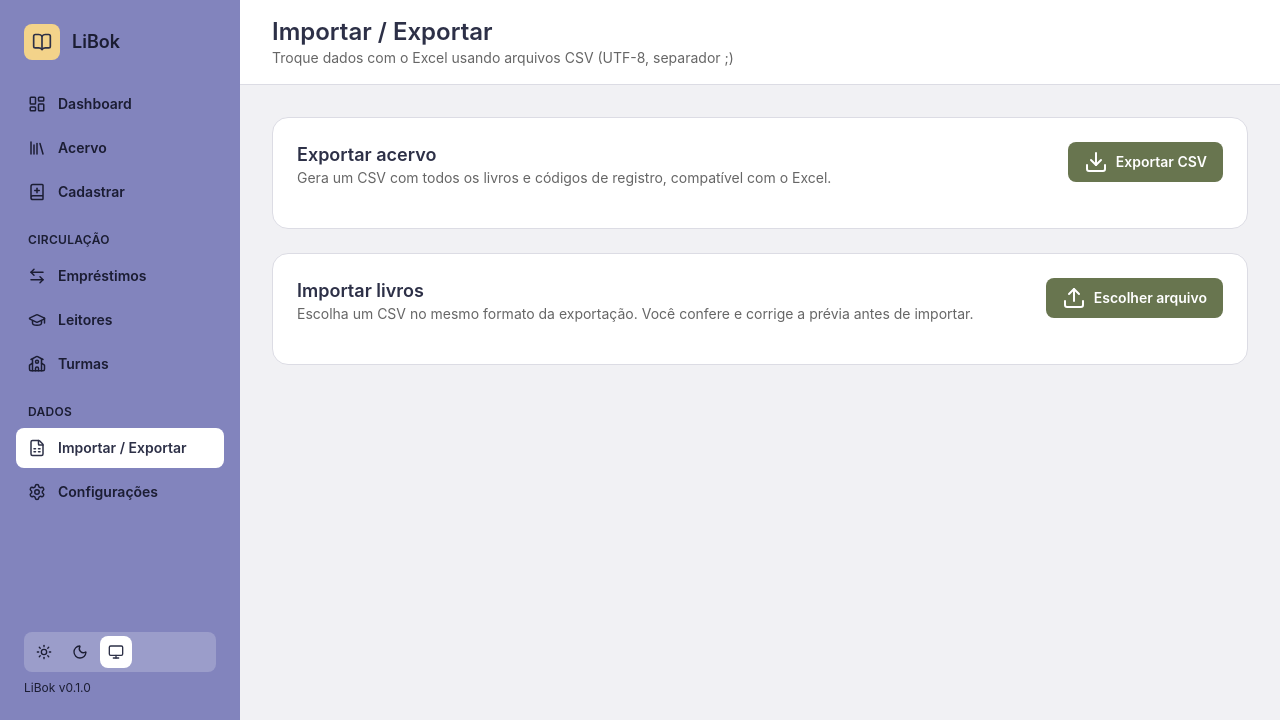
Test case: fluxo: corrigir linhas na prévia › desfazer ignorar devolve a linha
The width and height of the screenshot is (1280, 720).
Step 1. Click the button "Escolher arquivo" → coordinates (1134, 298), box x1=1046 y1=278 x2=1223 y2=318
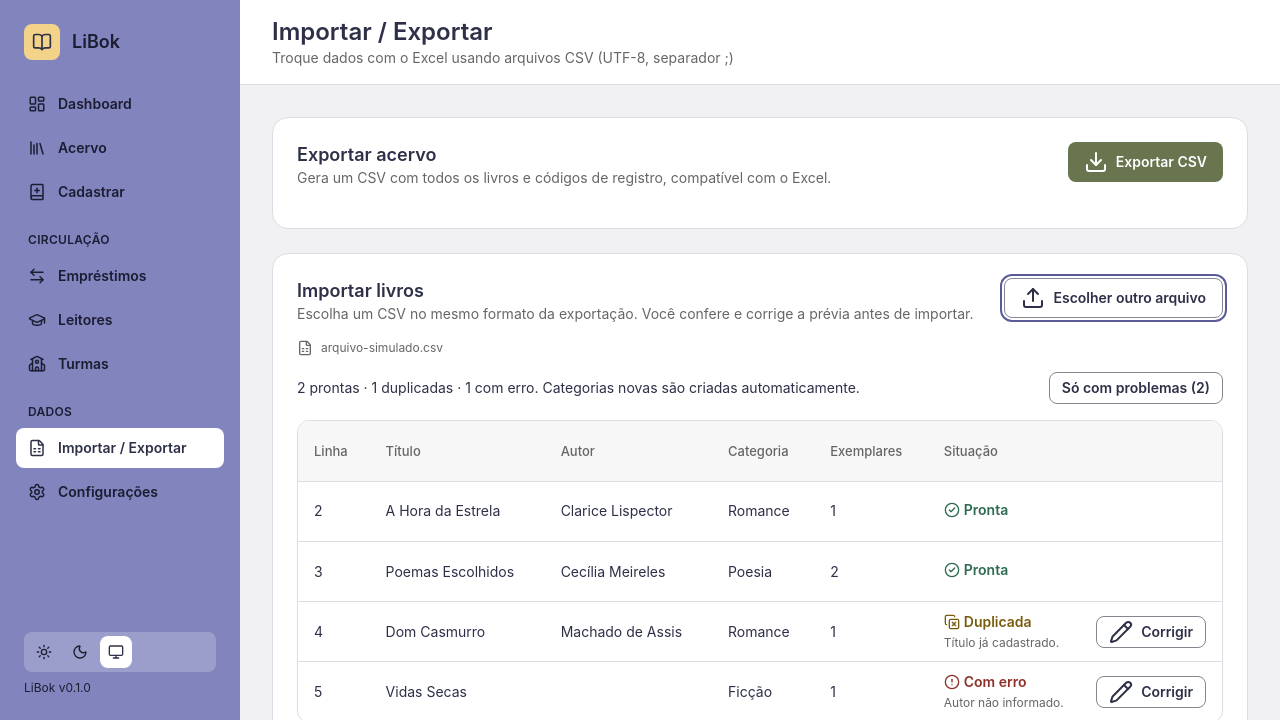
Result: the text "Poemas Escolhidos" is shown at x1=370 y1=542 x2=545 y2=602
Step 2. Click the button with aria-label "Corrigir linha 5" → coordinates (1151, 692), box x1=1096 y1=676 x2=1206 y2=708
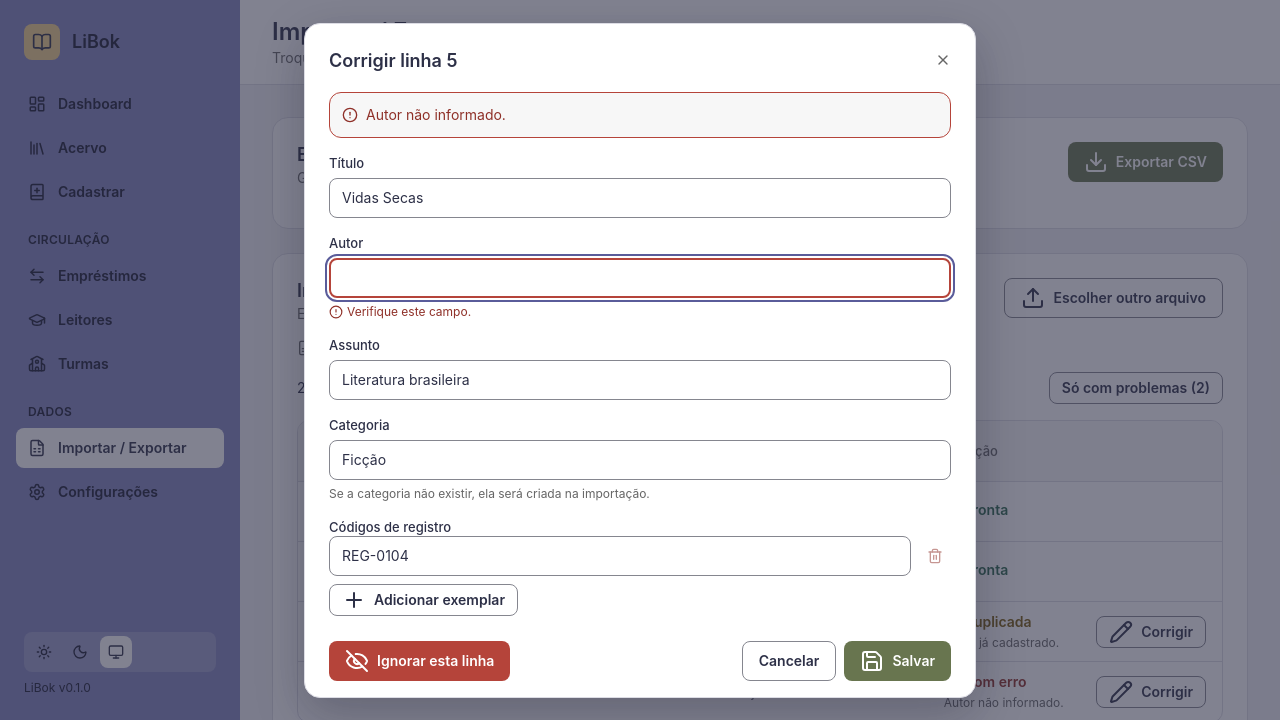
Step 3. Click the button "Ignorar esta linha" → coordinates (420, 660), box x1=329 y1=640 x2=510 y2=680
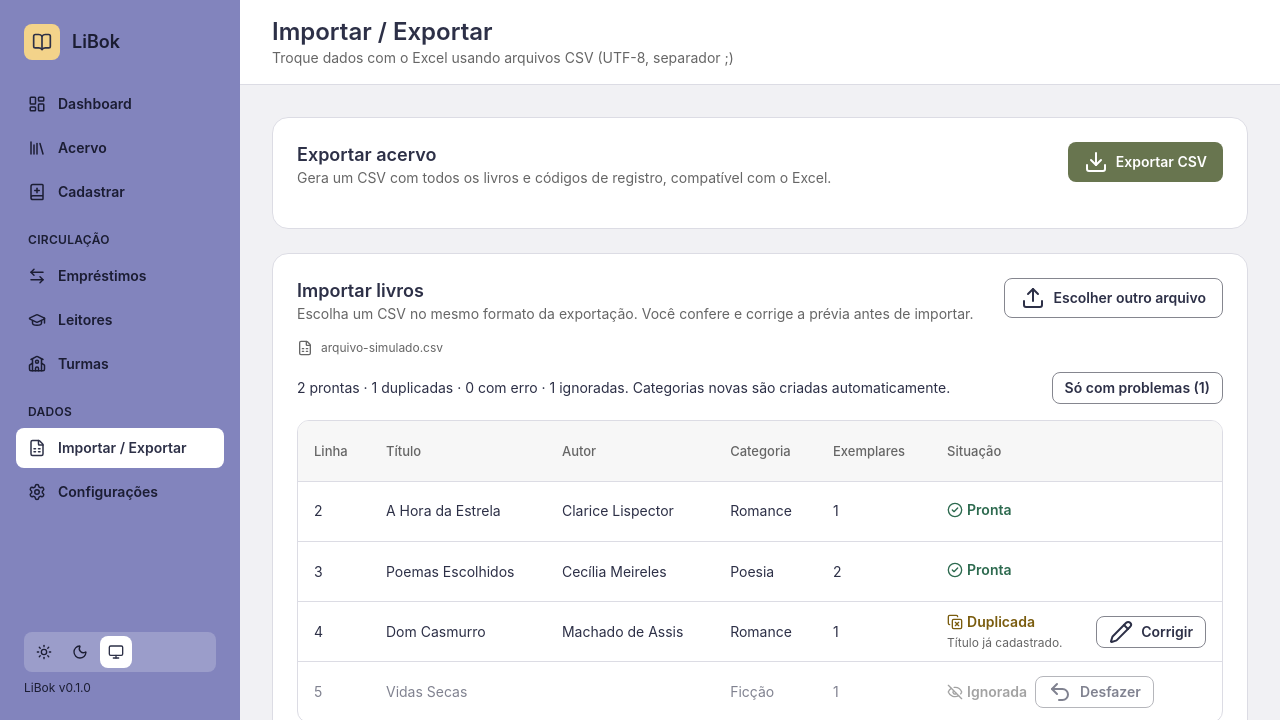
Step 4. Click the button with aria-label "Desfazer ignorar linha 5" → coordinates (1094, 692), box x1=1035 y1=676 x2=1154 y2=708
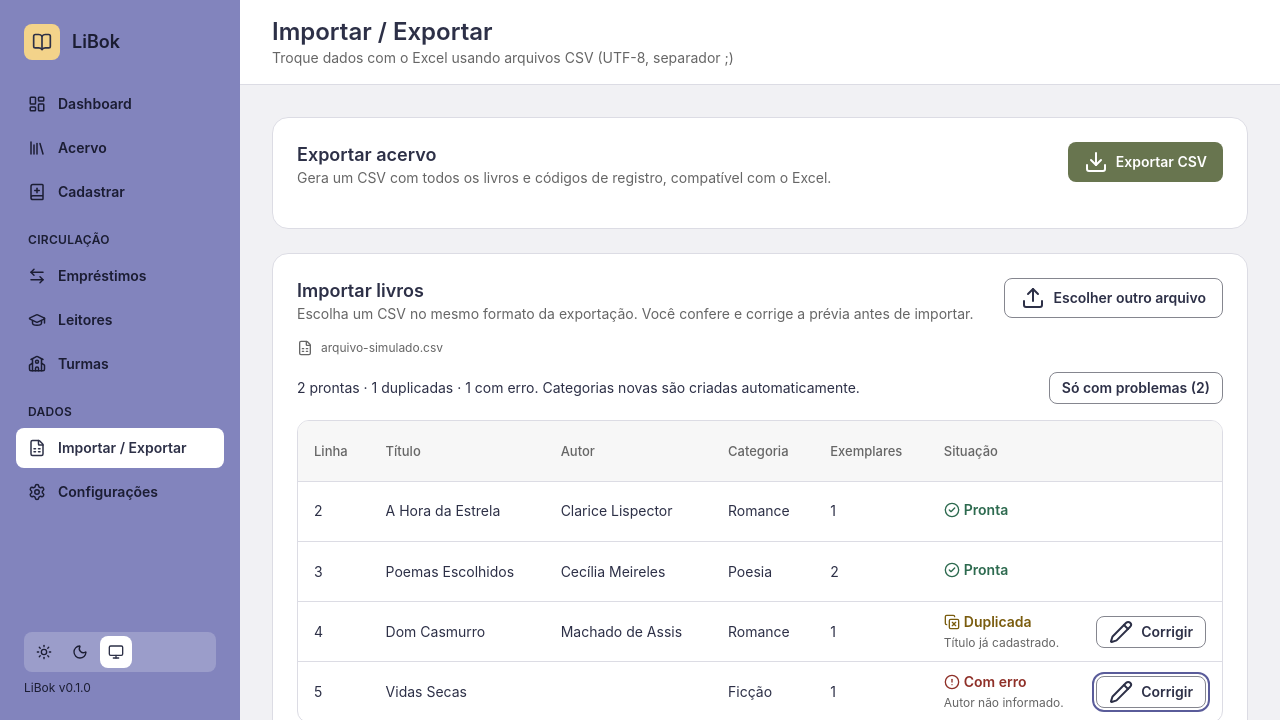
Result: the message shows "1 com erro" at x1=297 y1=378 x2=860 y2=398
